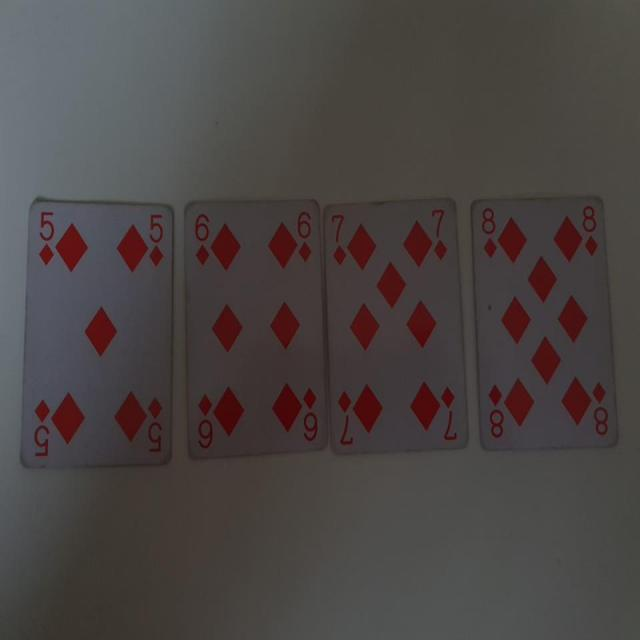5 Diamonds: (17, 196, 180, 472)
6 Diamonds: (184, 194, 329, 461)
7 Diamonds: (322, 198, 470, 457)
8 Diamonds: (469, 196, 621, 452)
